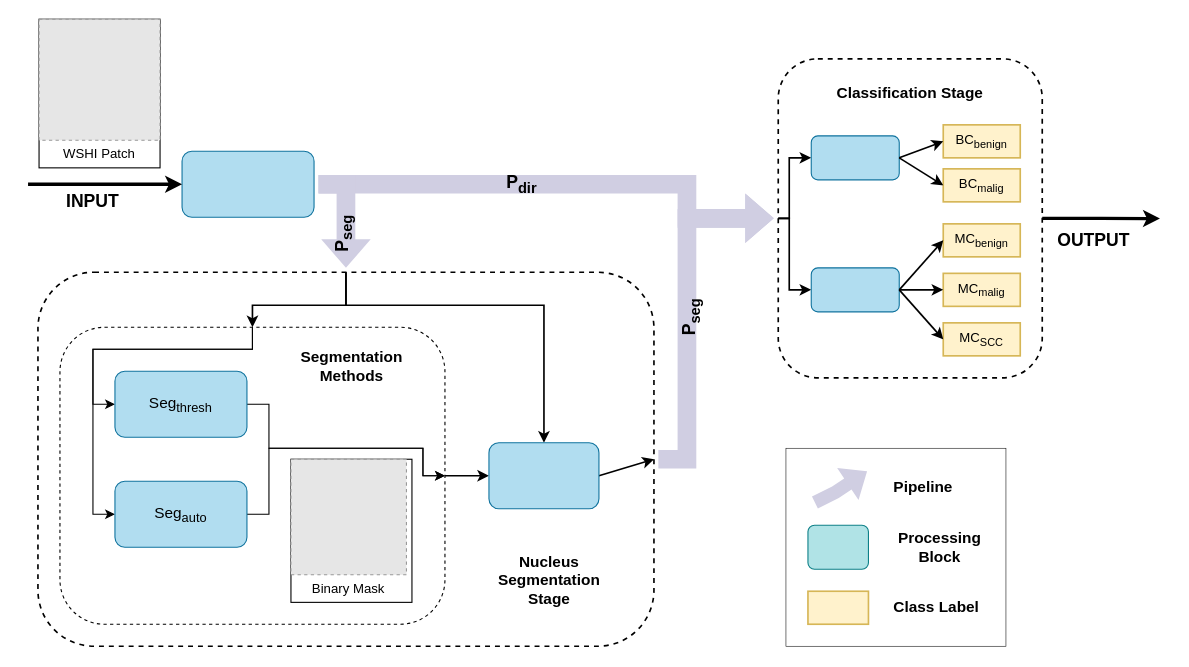
The diagram is 1189 pixels wide and 667 high, and some of its shapes have lost their labels. Grey dashed boxes stand in for pictures. Here are the shapes that lost their labels. From the top down, the box of each, then its label:
(810, 135, 899, 180): Cl bin
(181, 150, 314, 217): Preliminary Preprocessing
(810, 267, 899, 312): Cl mul
(488, 442, 599, 509): Bitwise-AND
